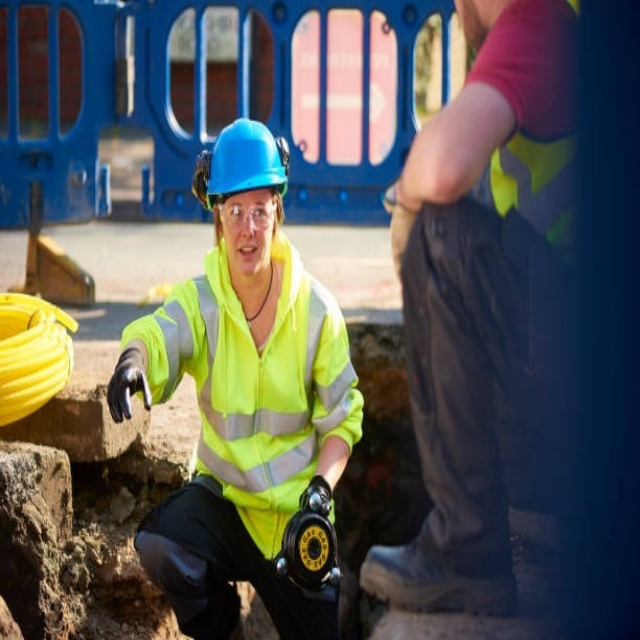Gafas: (212, 198, 279, 234)
Guantes: (107, 342, 156, 424)
Sin_mascara: (230, 238, 267, 276)
